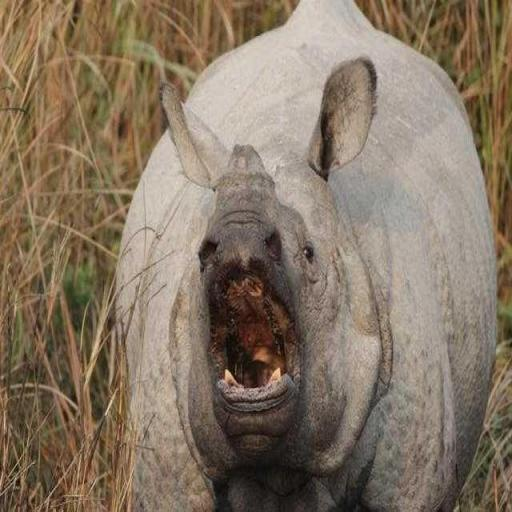Rhino: (108, 0, 498, 510)
